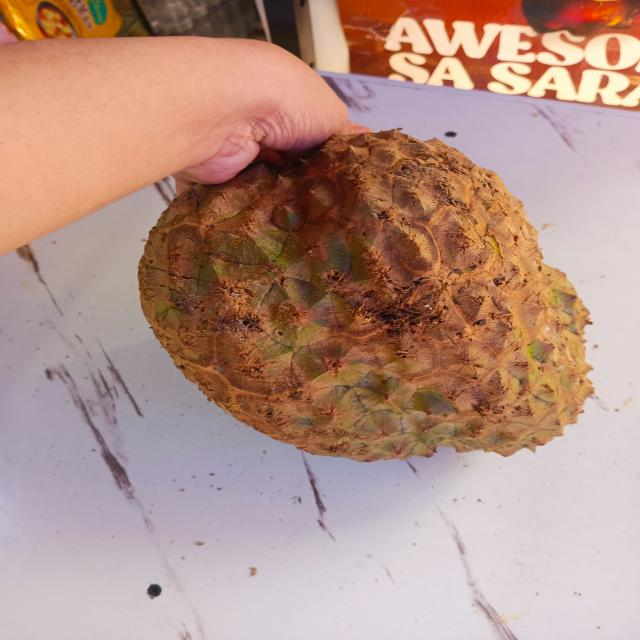mature: (130, 152, 574, 458)
